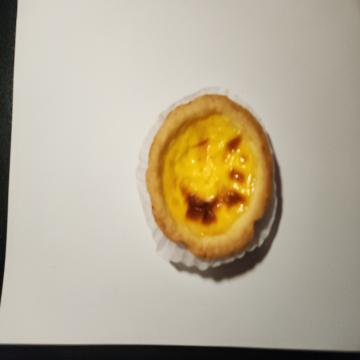EggTart: (146, 94, 273, 262)
